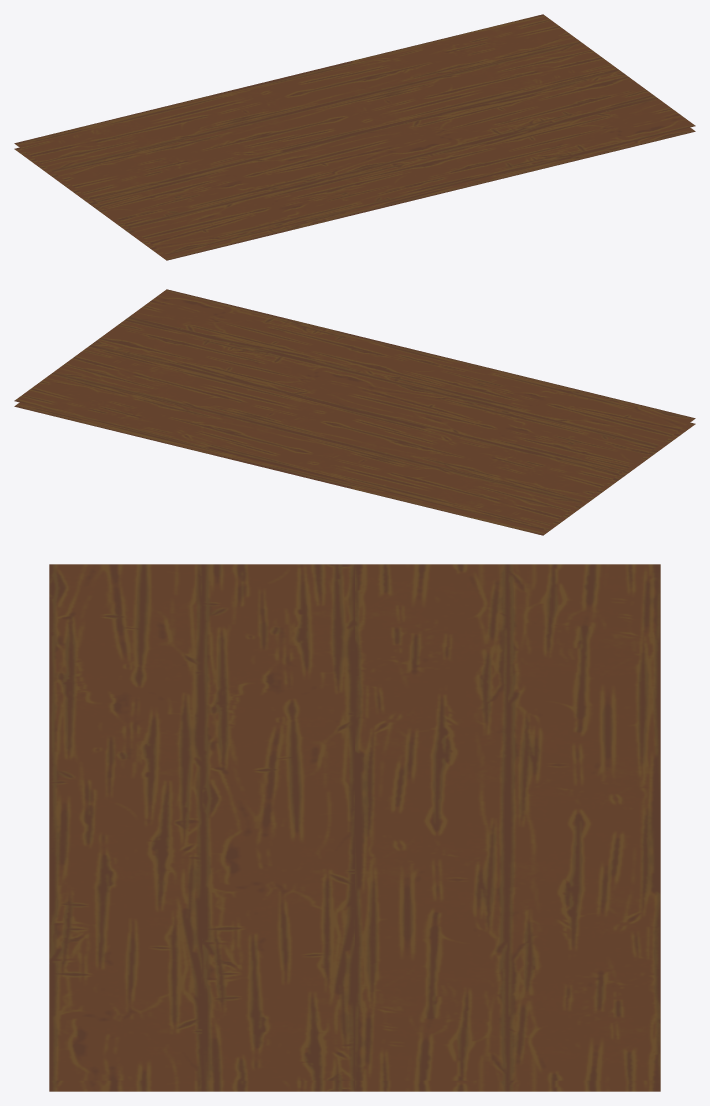
Rendered from floor_wood_dark_half3.gltf.
3 renders of one model, top to bottom at view 1: azimuth 30°, elevation 25°; view 2: azimuth 150°, elevation 25°; view 3: azimuth 270°, elevation 25°, orthographic. The views are drawn at different scales.
Parts seen in each view (by area): view 1: Floor_WoodDark_Half3; view 2: Floor_WoodDark_Half3; view 3: Floor_WoodDark_Half3.
Part boxes in pixels (box(x1,y1,x2,y2)): Floor_WoodDark_Half3: box(14, 14, 695, 260); Floor_WoodDark_Half3: box(14, 289, 695, 535); Floor_WoodDark_Half3: box(49, 564, 660, 1091).
Bounding box in the file's own units: 2 × 0.02 × 1.
1 material, 1 textured.
